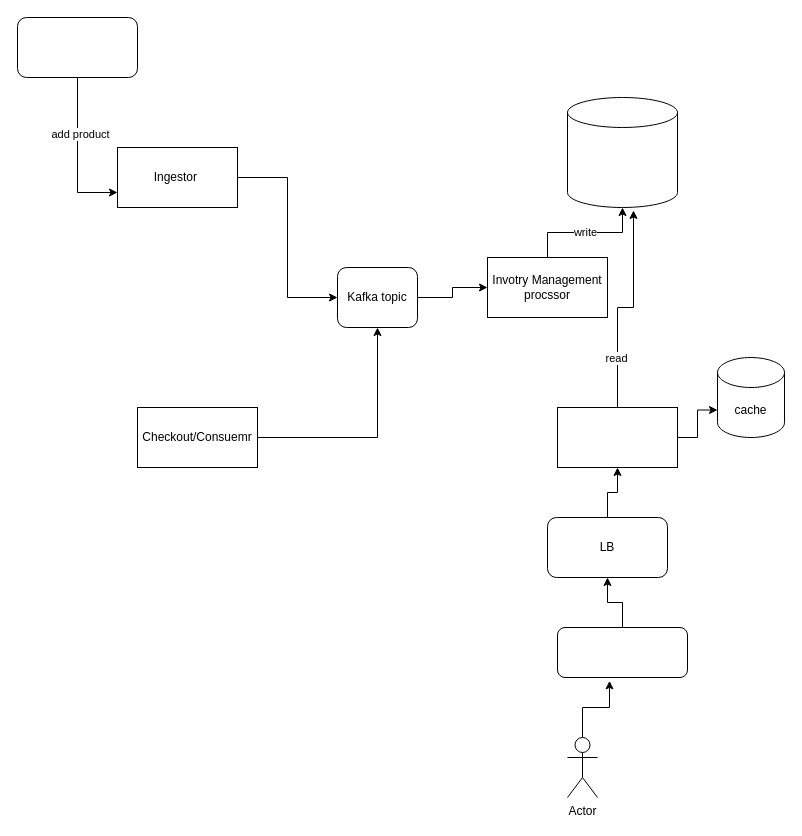
Image size: 802x836. Some labels were removed from this diagram. The centre of each missing label's shape, as x and y in pixels:
"API Gateway" goes at (x=622, y=652).
"Avalibitly api" goes at (x=617, y=437).
"inventory db couchbase cluster" goes at (x=622, y=152).
"Kafka/Messging queue" goes at (x=77, y=47).
